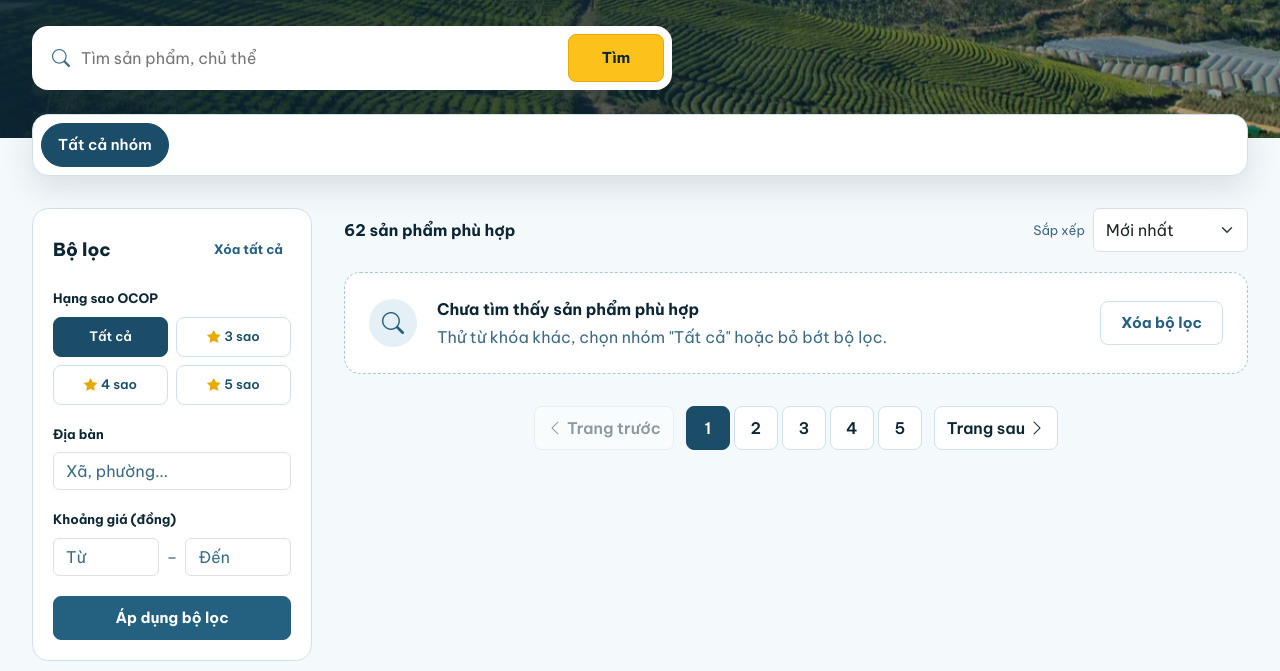
ProductsView › chan khoang gia khong hop le truoc khi goi api
(page scrolled)
In the number field named "Giá tối thiểu": coordinates (106, 557) x1=53 y1=538 x2=158 y2=576, type "200000"
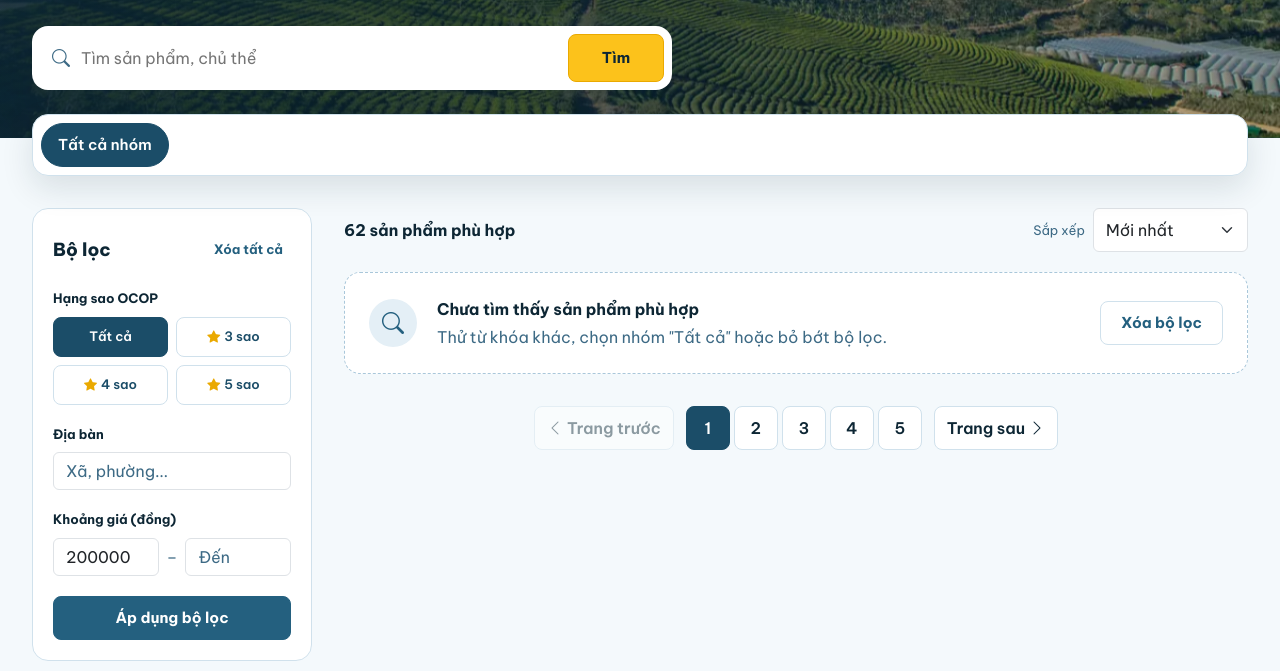
In the number field named "Giá tối đa": coordinates (238, 557) x1=186 y1=538 x2=291 y2=576, type "100000"
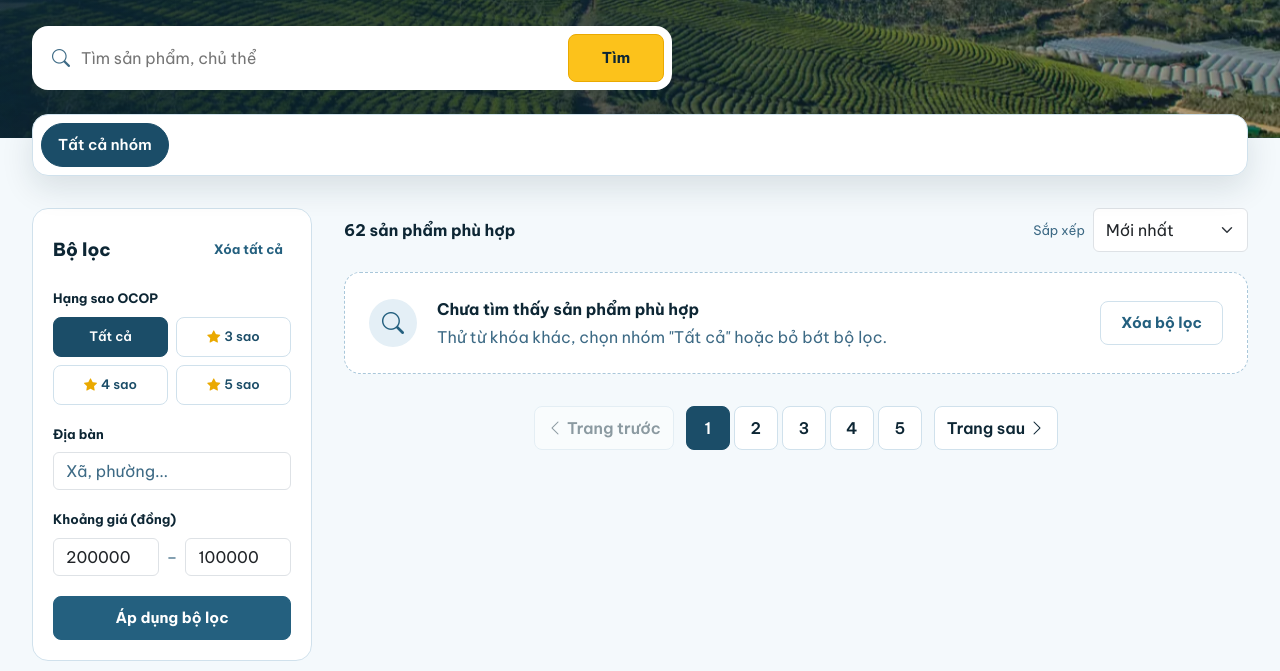
Submit the form "Tìm", box x1=32 y1=26 x2=672 y2=90
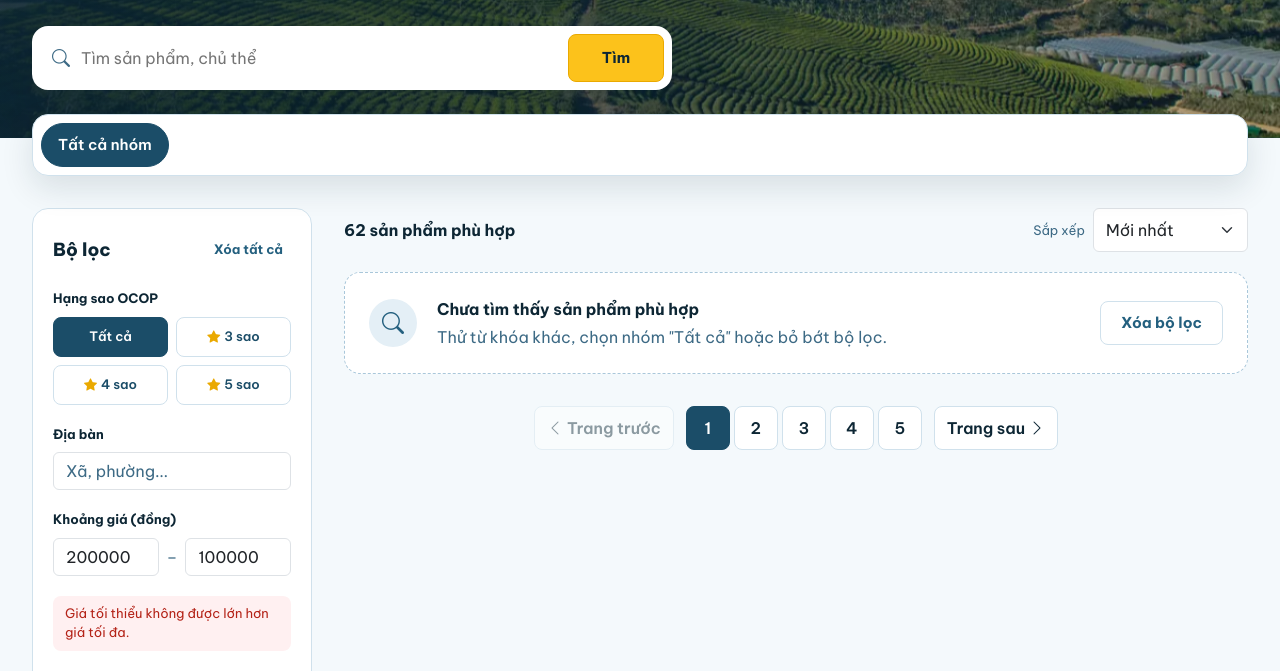
Now the text "Giá tối thiểu không được lớn hơn giá tối đa." is shown, box x1=53 y1=596 x2=291 y2=651
